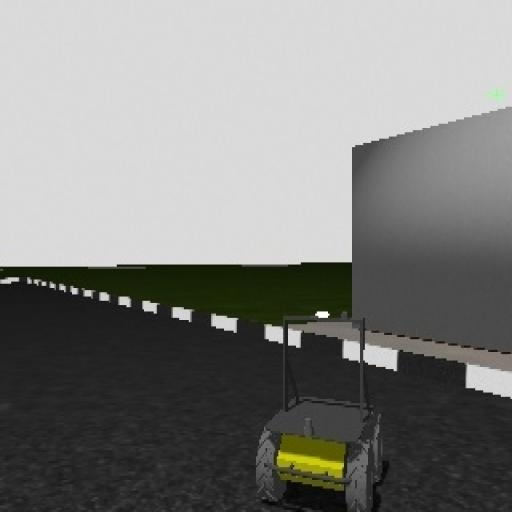huskya200: (260, 310, 382, 512)
